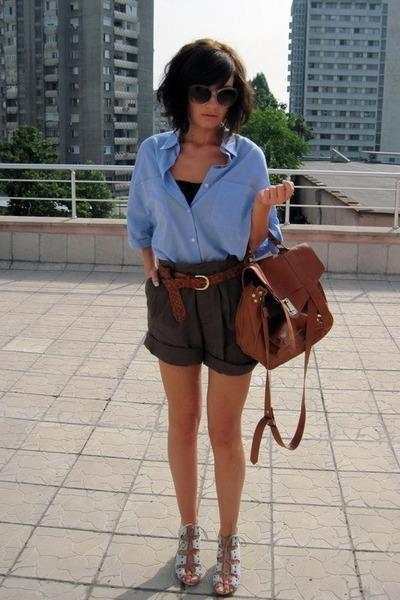bag: (231, 247, 333, 463)
jacket: (108, 117, 287, 275)
shirt: (175, 179, 201, 203)
shoe: (162, 516, 238, 594)
skirt: (144, 278, 251, 375)
sunglass: (186, 70, 248, 122)
